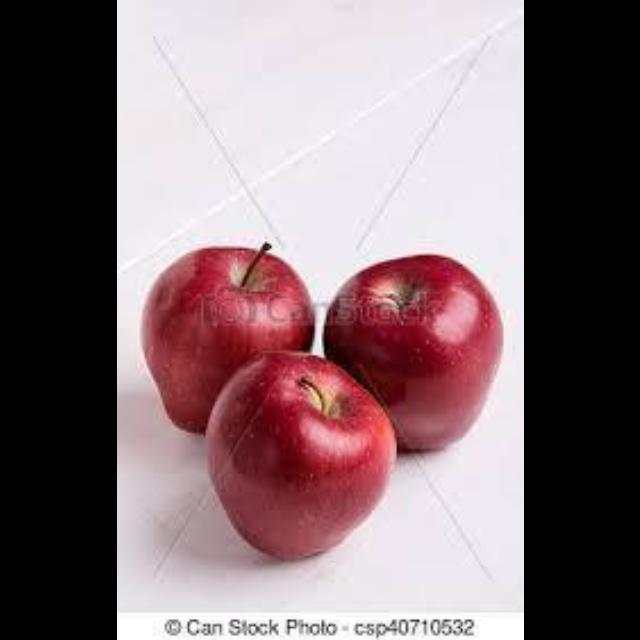apple: (207, 351, 394, 558), (321, 253, 501, 449), (141, 244, 312, 433)
